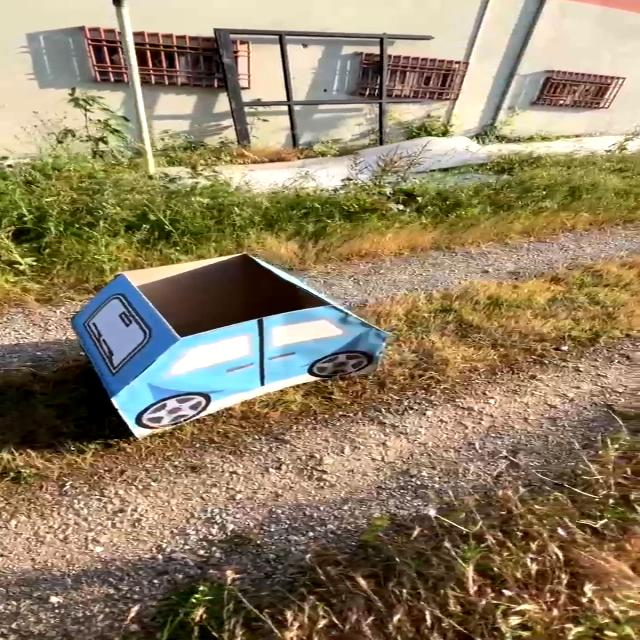blue_car: (29, 230, 440, 469)
